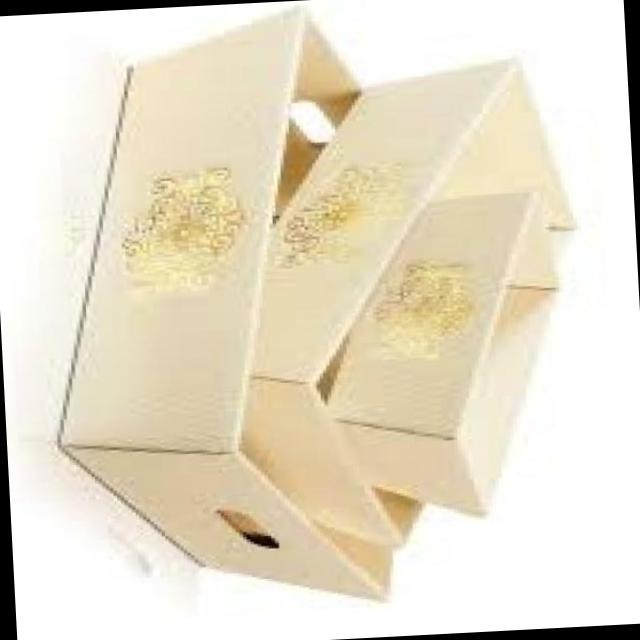cardboard paper: (62, 15, 575, 602)
